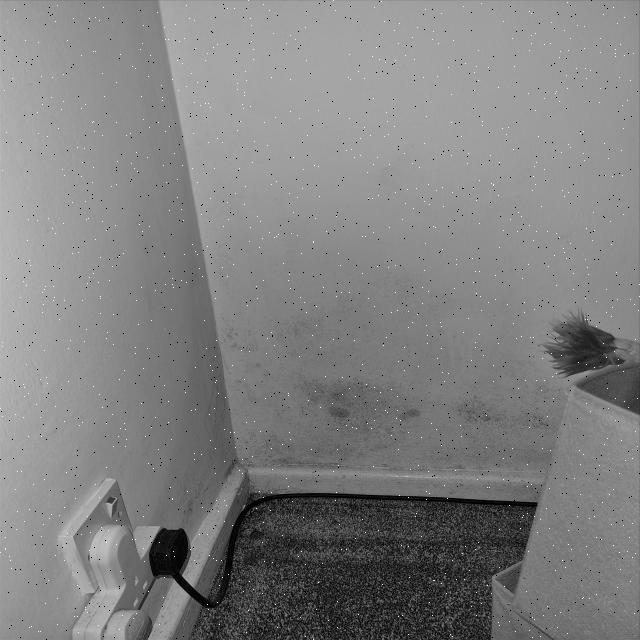stain marks: (126, 238, 597, 524)
